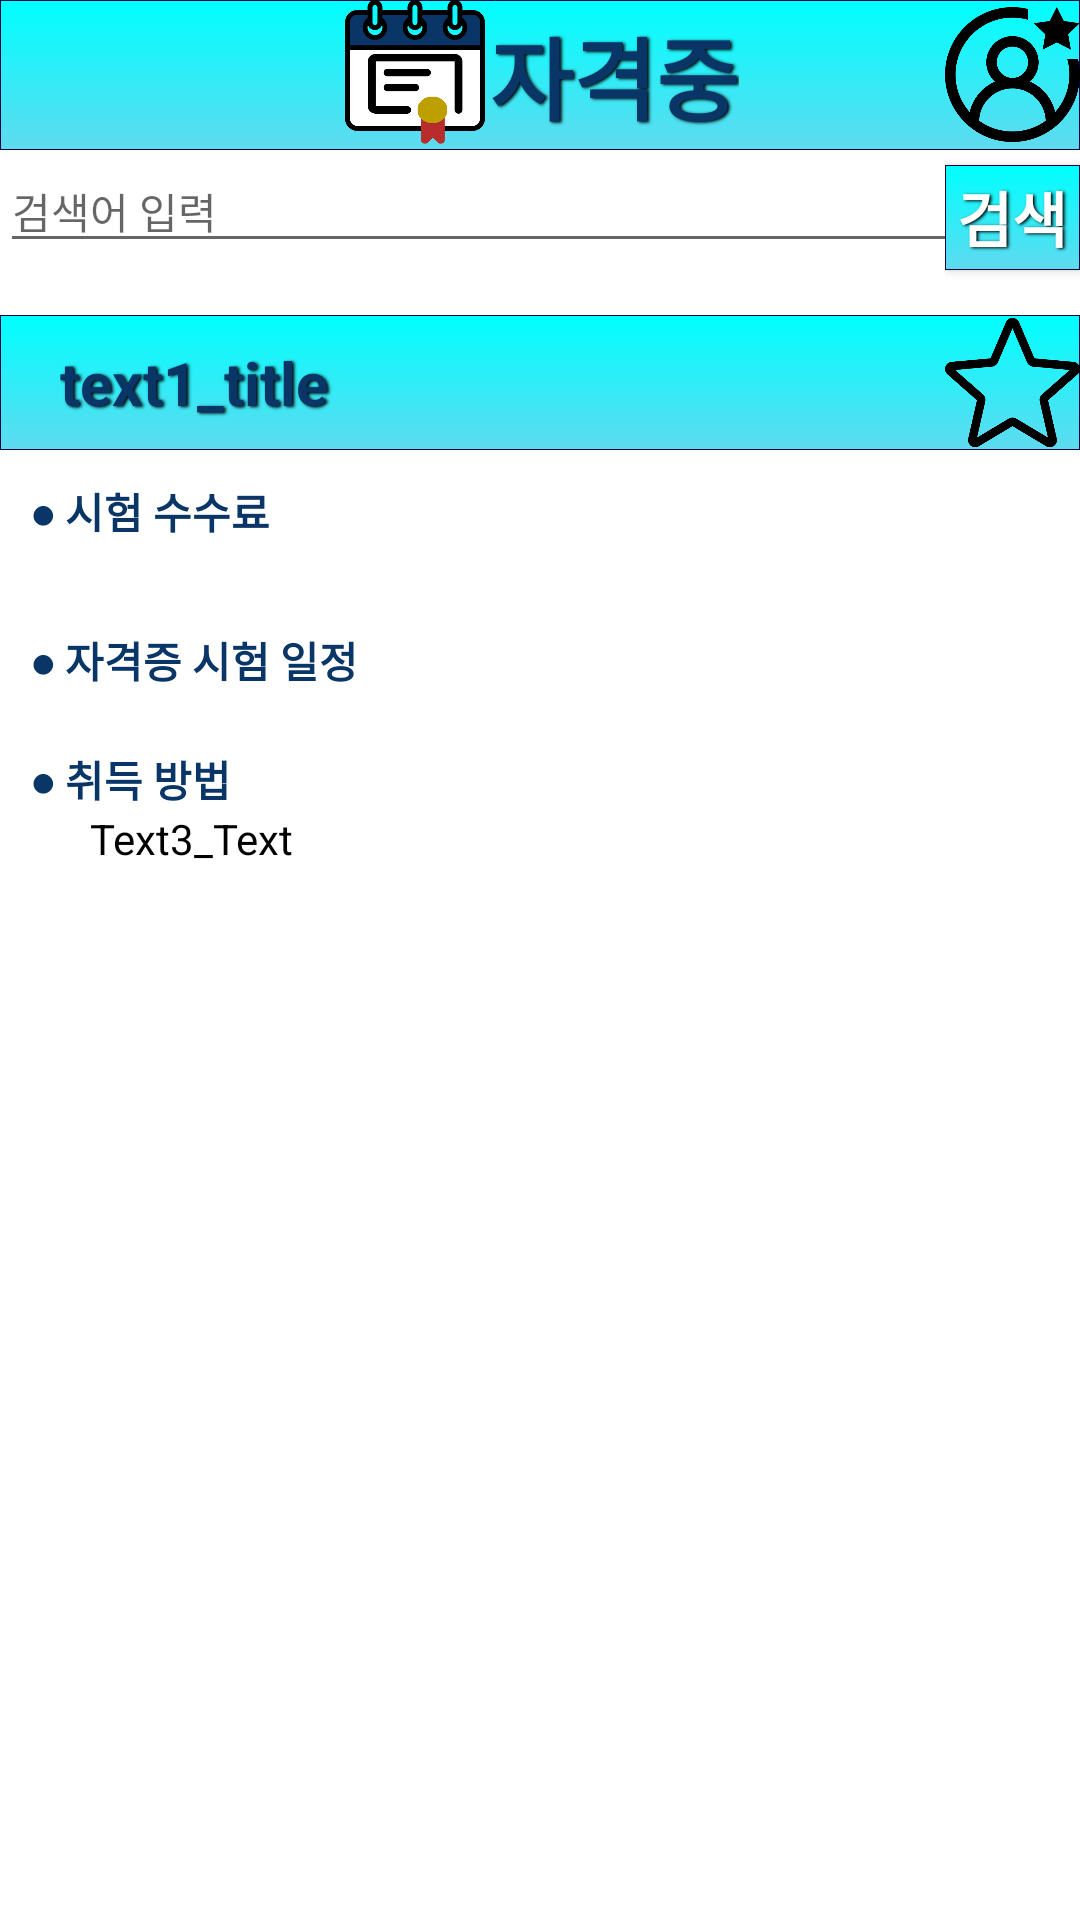

Screen size 1080px x 1920px. Icon name, then its box in pixels as (x1, y1, x2, y2):
star off: (945, 315, 1080, 450)
